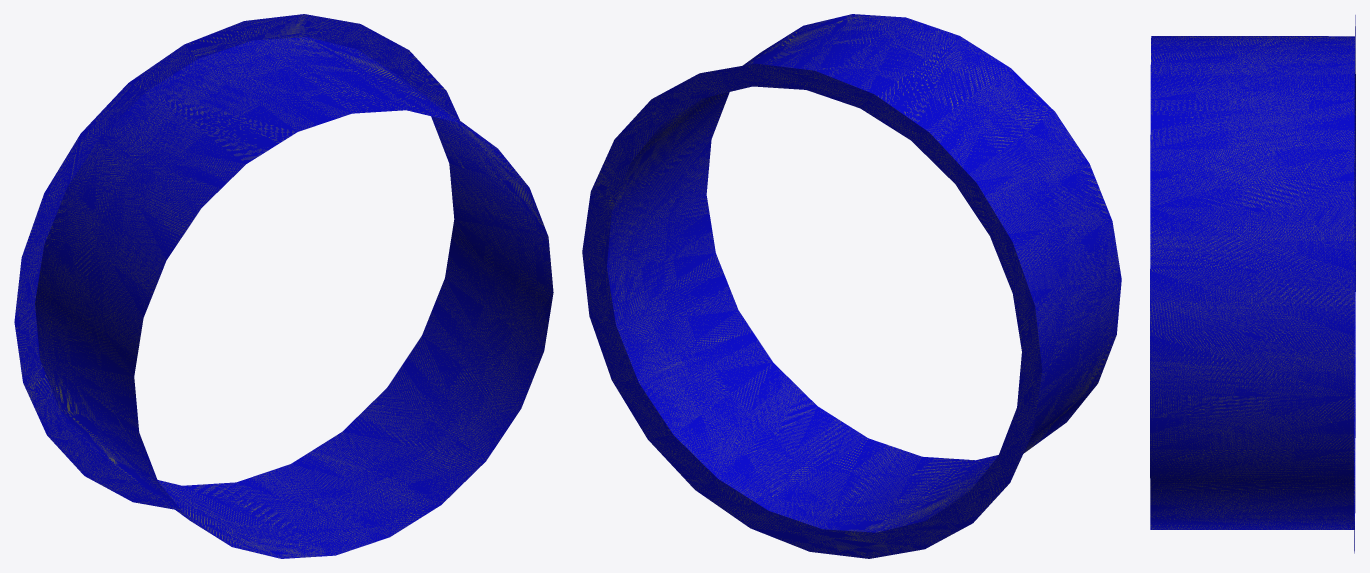
Rendered from original-6.obj.
3 views of the same model, side by side, from view 1: azimuth 30°, elevation 25°; view 2: azimuth 150°, elevation 25°; view 3: azimuth 270°, elevation 25° (orthographic). The views are drawn at different scales.
Parts seen in each view (by area): view 1: mesh1/mesh1-geometry/material_0/component_2#mesh1-geometry; view 2: mesh1/mesh1-geometry/material_0/component_2#mesh1-geometry; view 3: mesh1/mesh1-geometry/material_0/component_2#mesh1-geometry.
Boxes of the visible parts, x1,y1,x2,y2 form: mesh1/mesh1-geometry/material_0/component_2#mesh1-geometry: (14, 14, 553, 558); mesh1/mesh1-geometry/material_0/component_2#mesh1-geometry: (582, 14, 1121, 558); mesh1/mesh1-geometry/material_0/component_2#mesh1-geometry: (1150, 15, 1355, 553).
Size of the model in its own units: 0.5586 by 0.5586 by 0.21.
